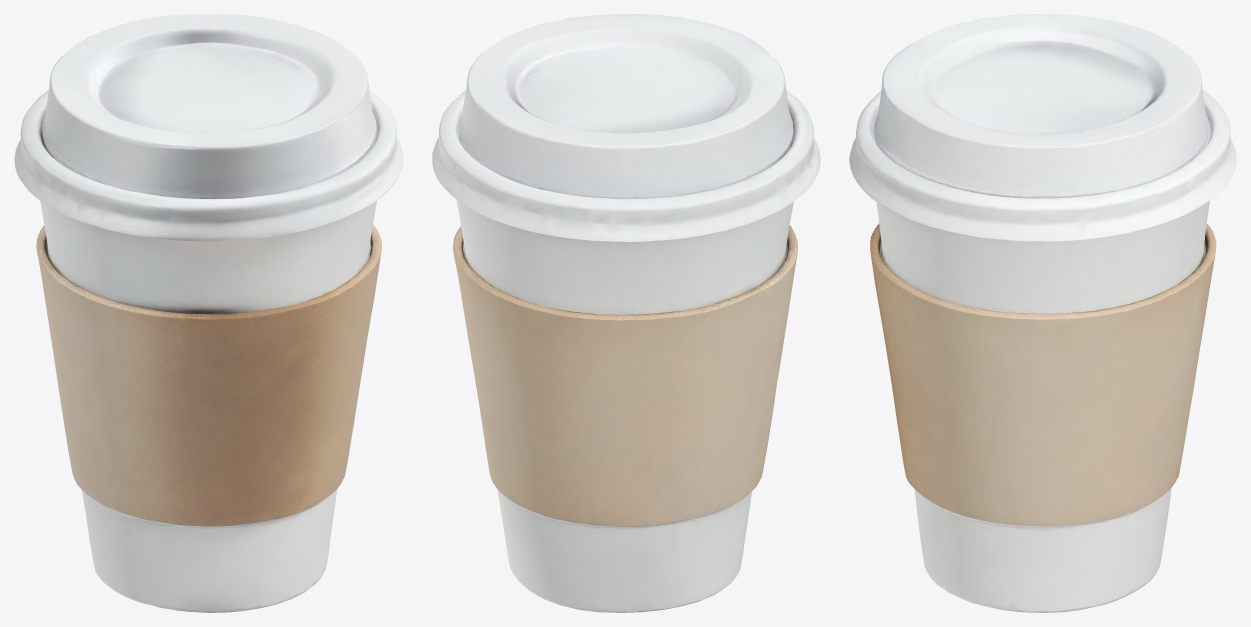
Rendered from cup.glb.
3 views of the same model, side by side, from view 1: azimuth 30°, elevation 25°; view 2: azimuth 150°, elevation 25°; view 3: azimuth 270°, elevation 25° (orthographic).
Visible parts, largest first — view 1: model; view 2: model; view 3: model.
Boxes of the visible parts, x1,y1,x2,y2 form: model: (14, 14, 403, 612); model: (432, 14, 820, 612); model: (849, 14, 1236, 612).
Bounding box in the file's own units: 1.38 × 1.9 × 1.37.
1 material, 1 textured.
